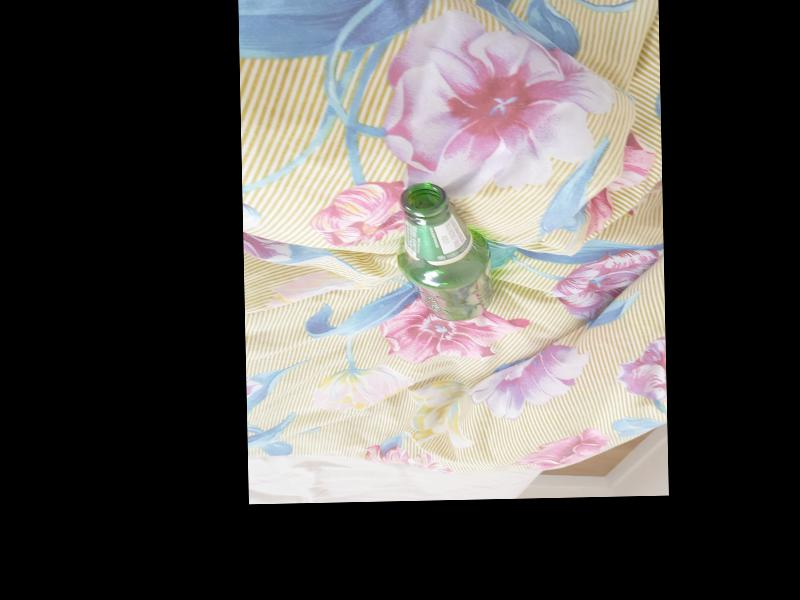Beer: (396, 181, 488, 321)
